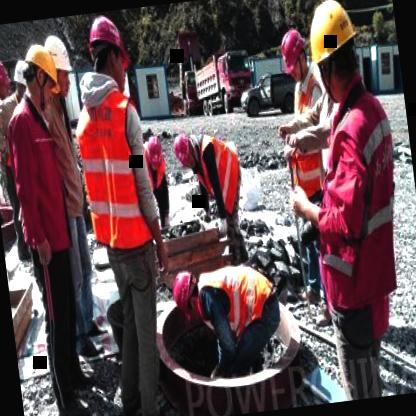helmet: (299, 0, 368, 104), (82, 12, 131, 88), (20, 40, 64, 110), (40, 30, 73, 98), (275, 24, 312, 84), (170, 271, 202, 318), (169, 128, 200, 171), (11, 56, 38, 102), (142, 130, 166, 173), (0, 187, 12, 256), (0, 54, 11, 100)
